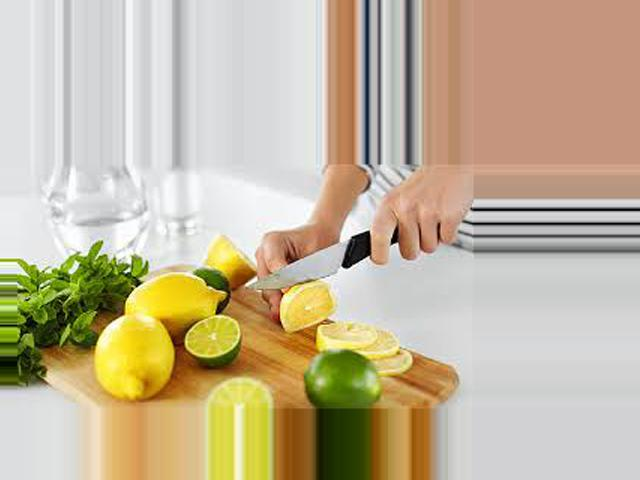lemon: (80, 313, 180, 397)
